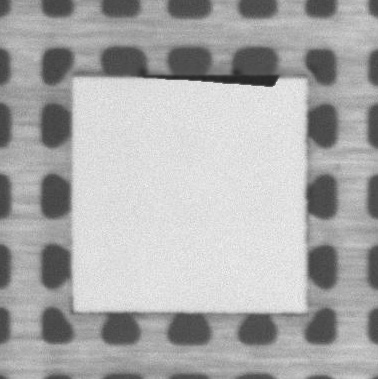DIE_BROKEN: (140, 72, 281, 89)
